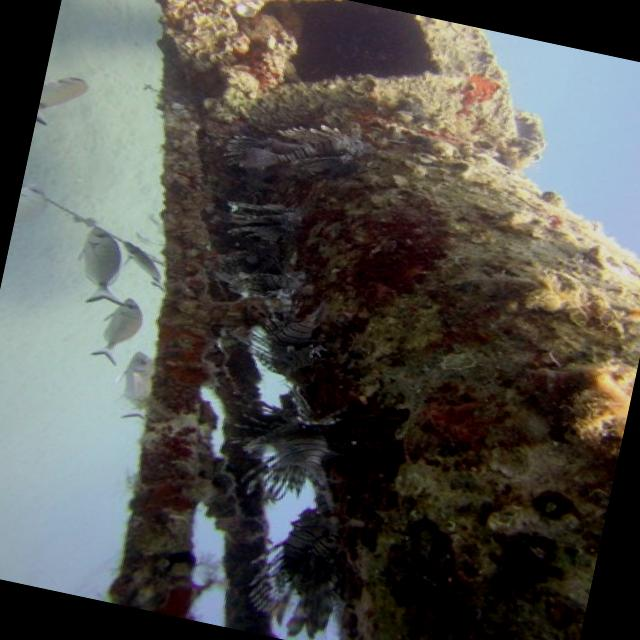Aslan Baligi: (221, 486, 373, 640), (204, 90, 378, 210), (219, 378, 364, 513), (218, 294, 348, 396), (192, 242, 332, 330), (198, 188, 319, 260)
